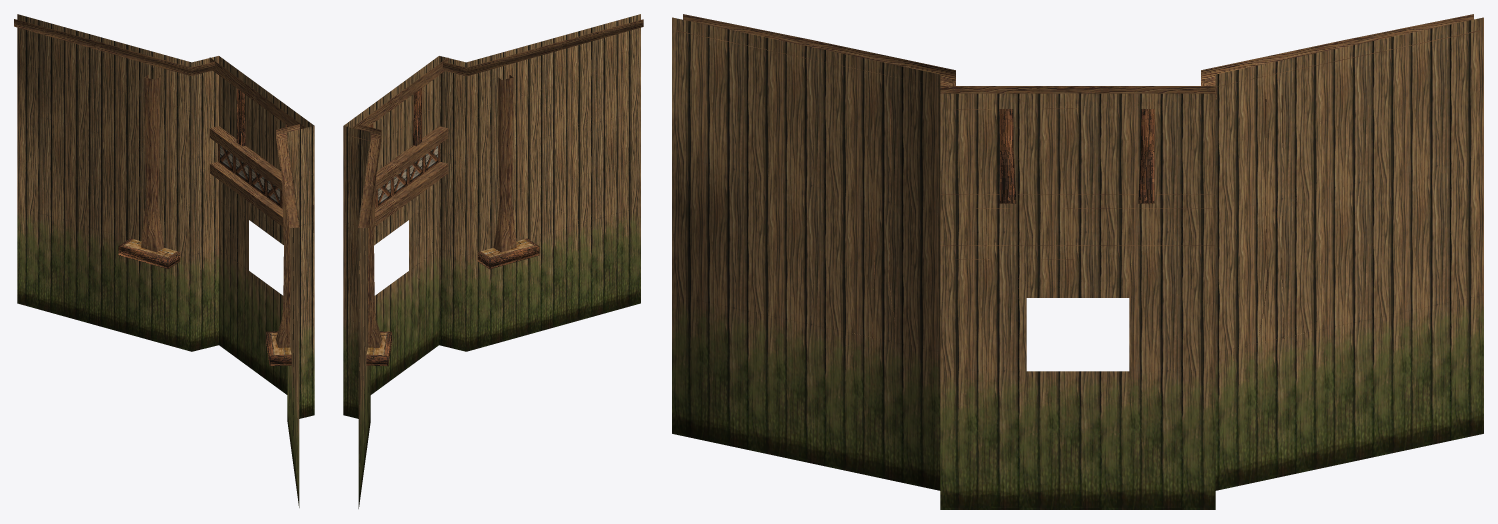
The model's file is LAKETOWN_WAREHOUSE2_PS_WH2_FRONTWALL9494__GX.obj.
3 renders of one model, left to right at view 1: azimuth 30°, elevation 25°; view 2: azimuth 150°, elevation 25°; view 3: azimuth 270°, elevation 25°, orthographic. The views are drawn at different scales.
Visible parts, largest first — view 1: ontWall9494__GX; view 2: ontWall9494__GX; view 3: ontWall9494__GX.
Boxes of the visible parts, <box> form: ontWall9494__GX: <box>14,14,314,507</box>; ontWall9494__GX: <box>343,14,643,508</box>; ontWall9494__GX: <box>672,14,1483,509</box>.
Bounding box in the file's own units: 457 × 1073 × 1890.
